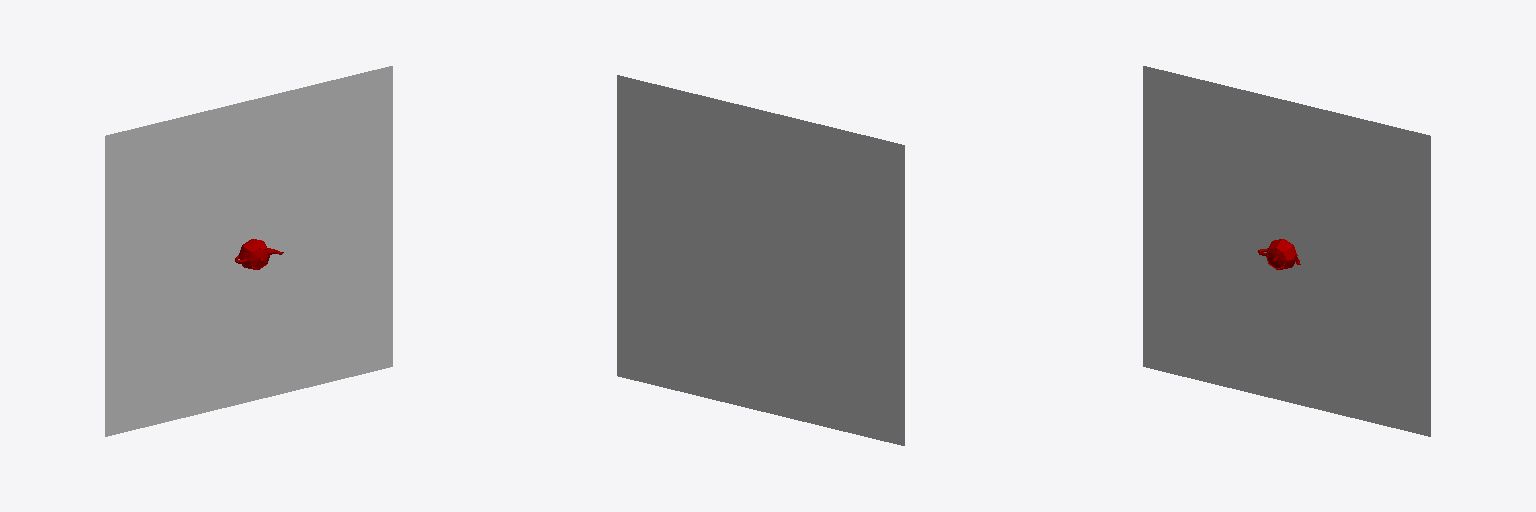
3 renders of one model, left to right at view 1: azimuth 30°, elevation 25°; view 2: azimuth 150°, elevation 25°; view 3: azimuth 330°, elevation 25°, orthographic.
Visible parts, largest first — view 1: Teapot001; view 2: Teapot001; view 3: Teapot001.
Part boxes in pixels (x1,y1,x2,y2): Teapot001: (105,66,392,436); Teapot001: (617,75,904,445); Teapot001: (1143,66,1430,436).
Bounding box in the file's own units: 200 × 200 × 15.75.